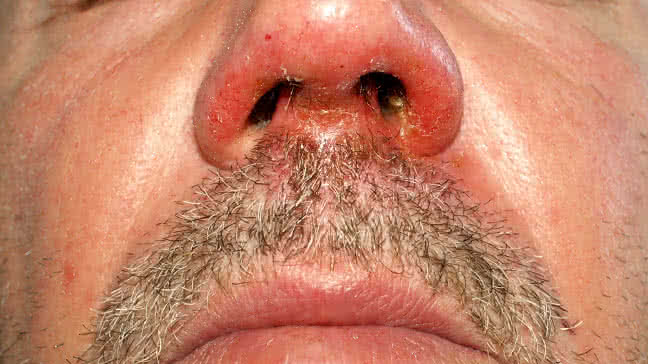Impetigo: (219, 23, 454, 149)
